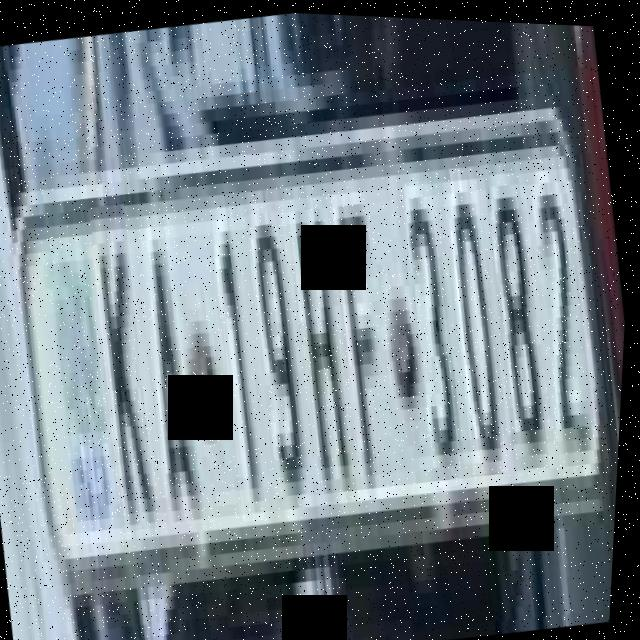0: (433, 173, 525, 472)
1: (200, 205, 283, 520)
3: (393, 174, 481, 485)
8: (475, 166, 567, 469)
9: (236, 202, 326, 502)
A: (128, 212, 219, 525)
F: (317, 174, 412, 483)
H: (279, 191, 370, 501)
K: (79, 201, 177, 533)
